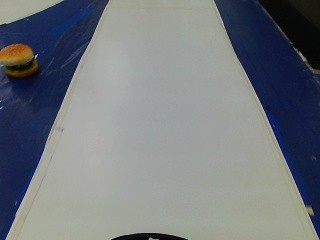burger: (0, 38, 42, 79)
